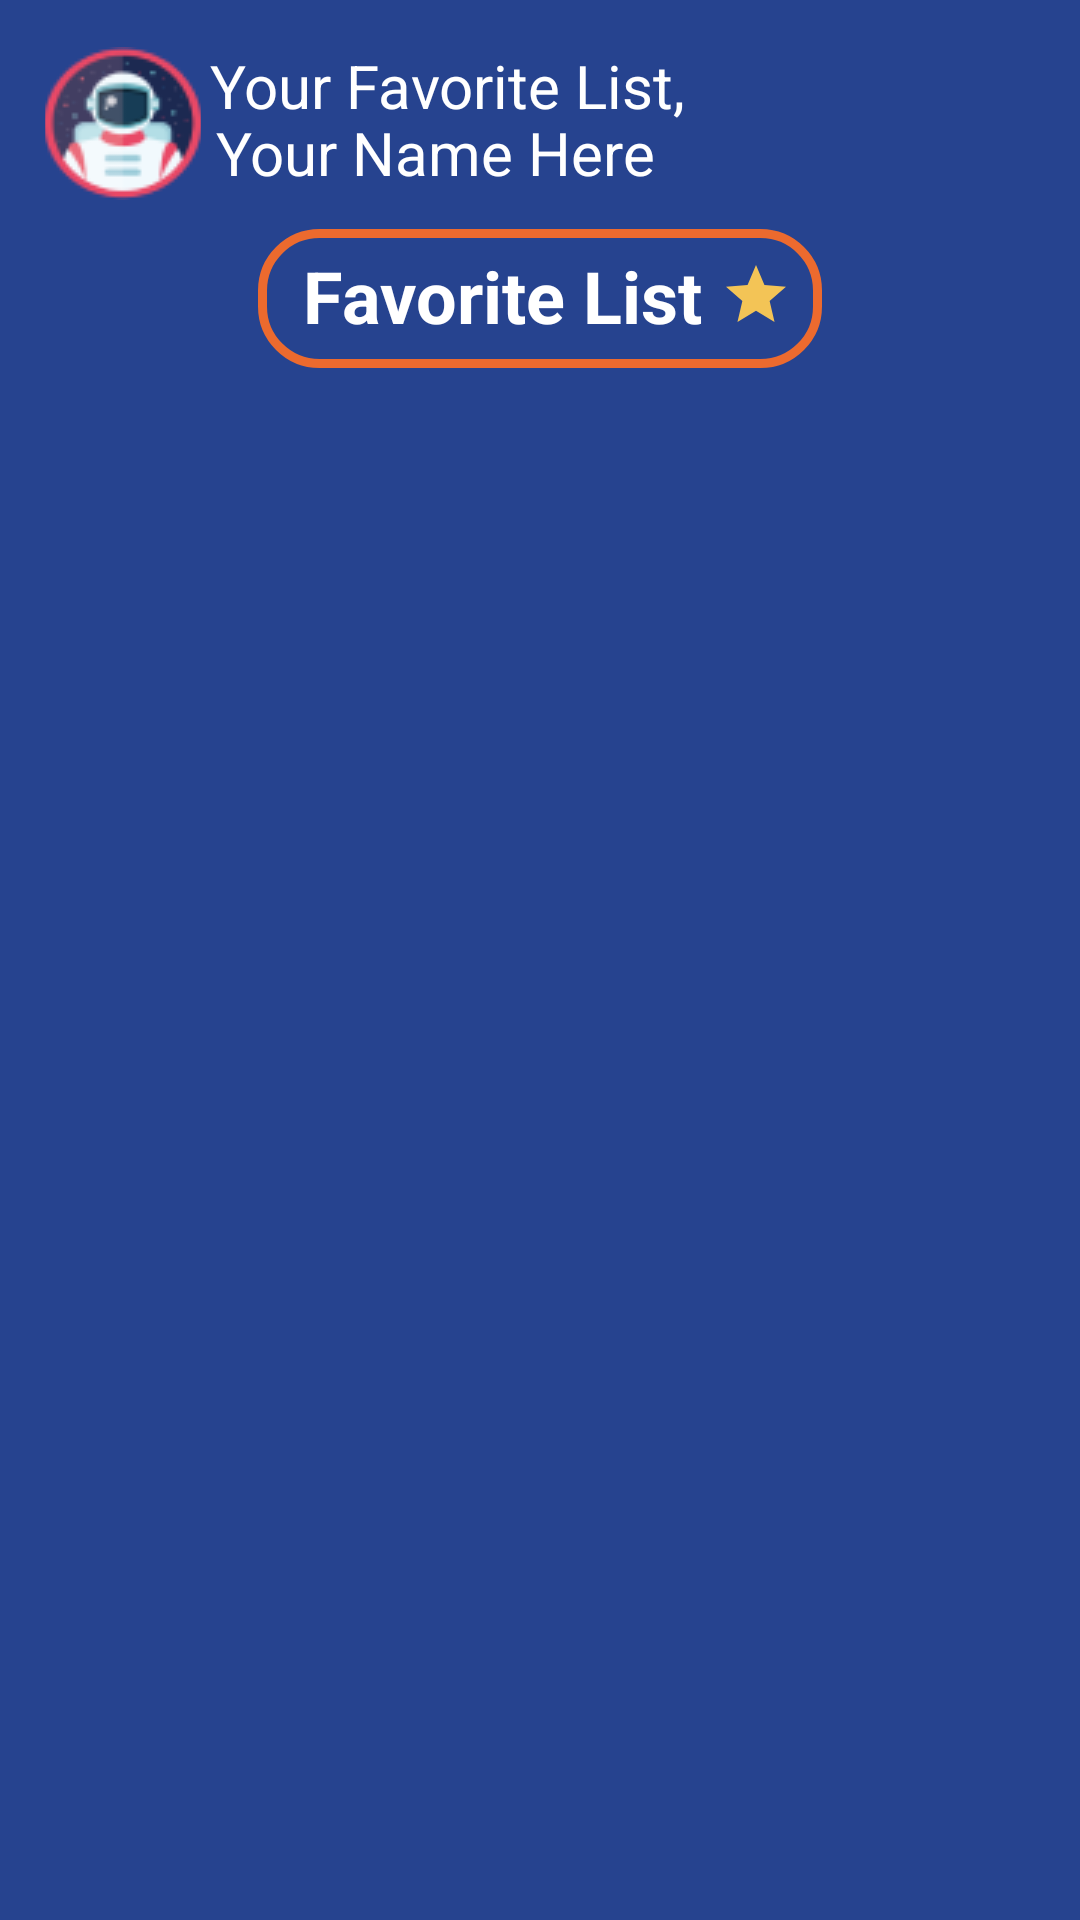

Point at icon controls on the screen. Image size 1080px×1920px, points as point (x, y).
profile: point (123, 123)
